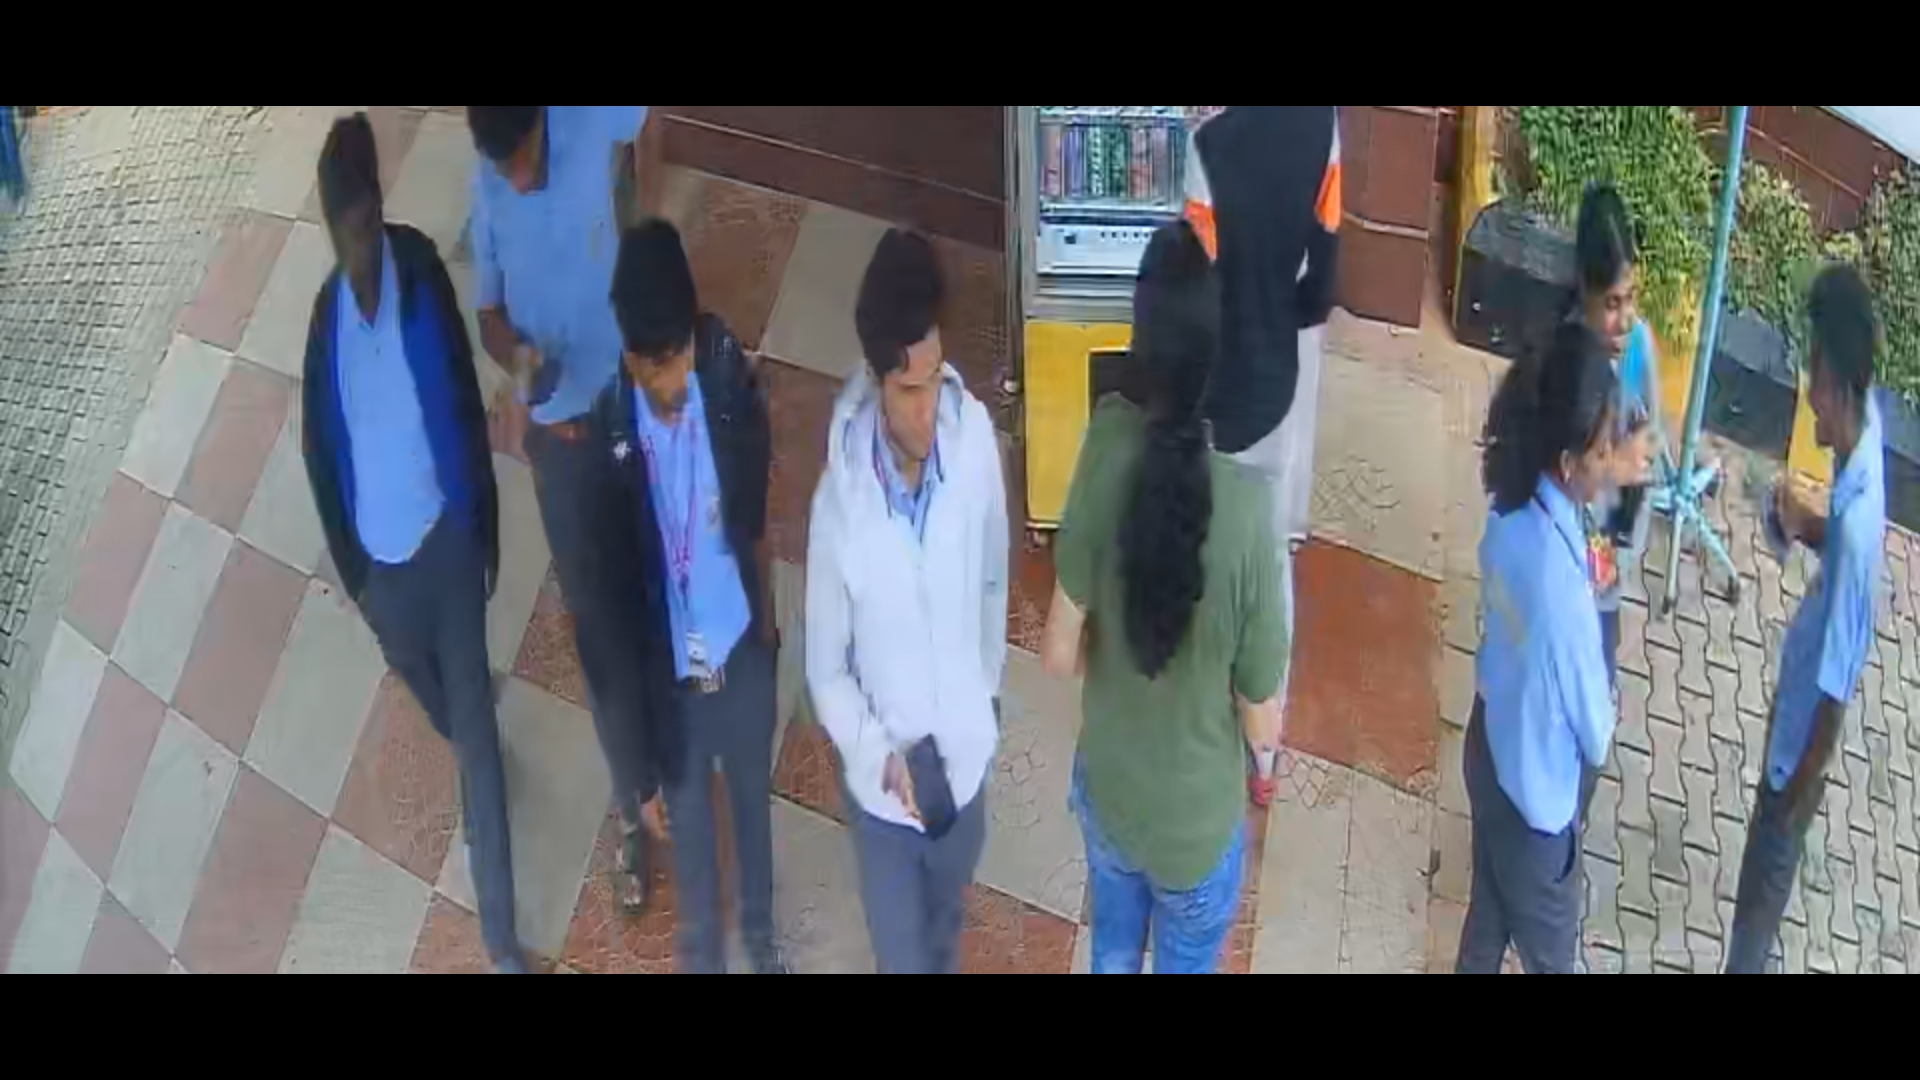intruder: (284, 105, 537, 989), (423, 109, 690, 894), (808, 218, 1013, 973)
not intruder: (593, 231, 796, 977)
